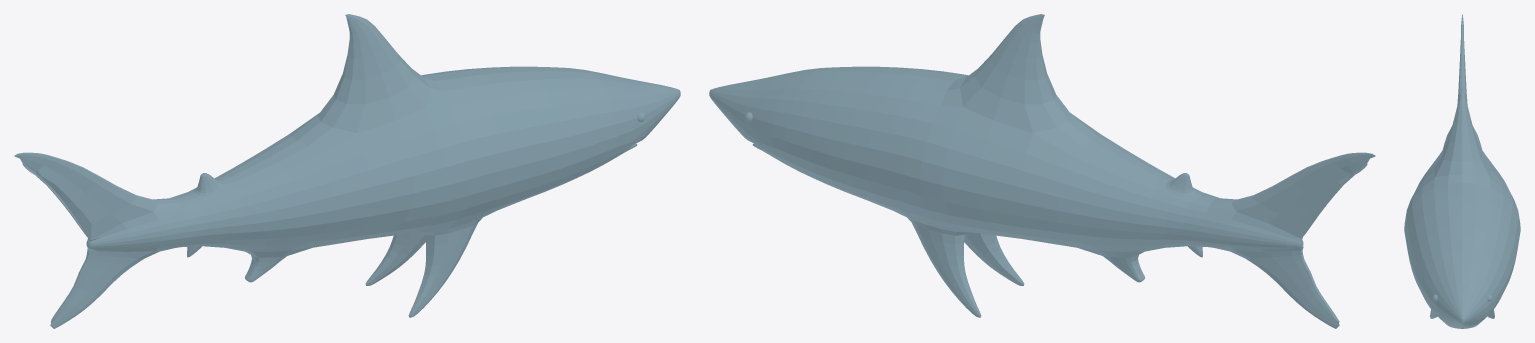
The model's file is shark.glb.
3 renders of one model, left to right at view 1: azimuth 30°, elevation 25°; view 2: azimuth 150°, elevation 25°; view 3: azimuth 270°, elevation 25°, orthographic. The views are drawn at different scales.
Visible parts, largest first — view 1: Circle; view 2: Circle; view 3: Circle.
Boxes of the visible parts, left/top/right/bottom form: Circle: left=14, top=14, right=680, bottom=328; Circle: left=709, top=14, right=1375, bottom=328; Circle: left=1404, top=14, right=1520, bottom=328.
Bounding box in the file's own units: 1.55 × 0.6621 × 0.3251.
